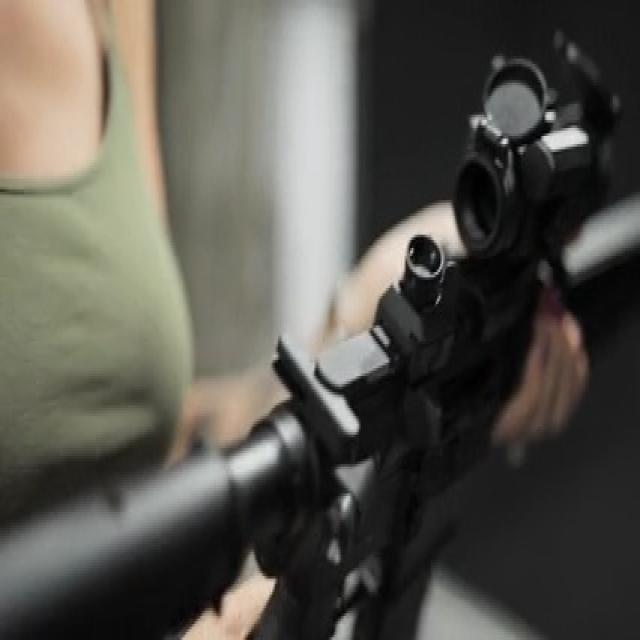Gun_Holder: (101, 0, 640, 639)
